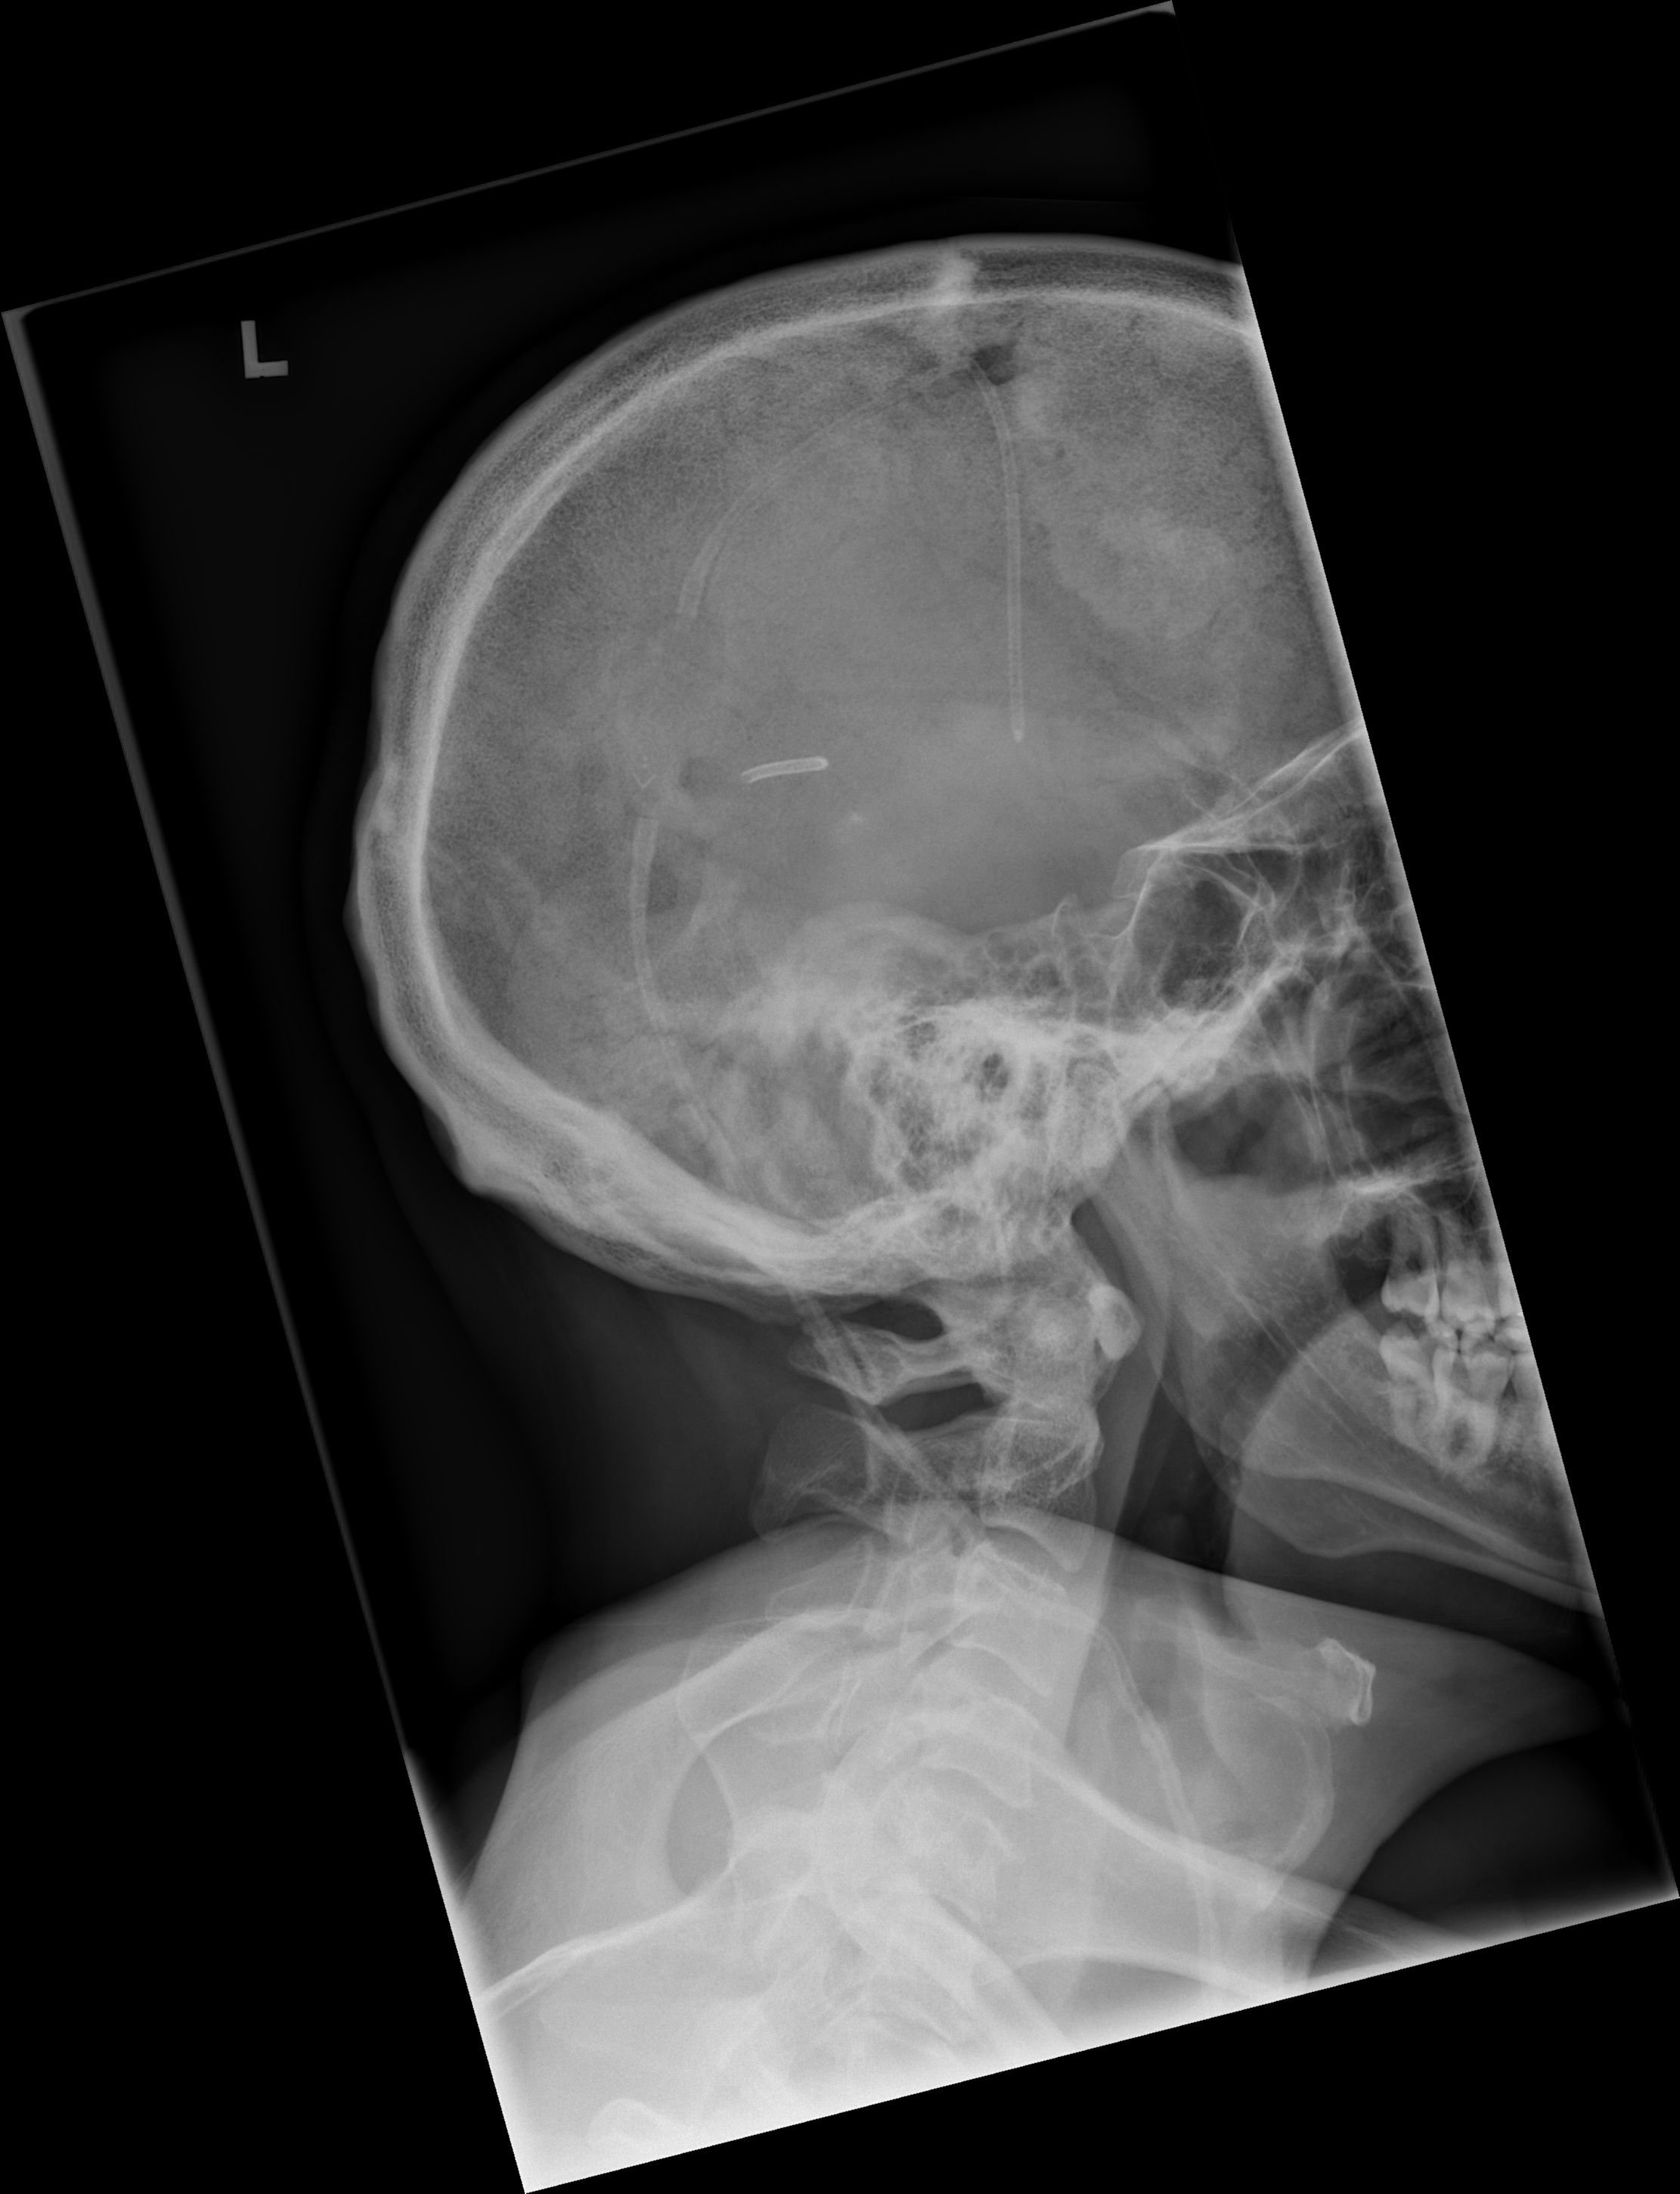Codman Uni-Shunt: (618, 602, 725, 815)
